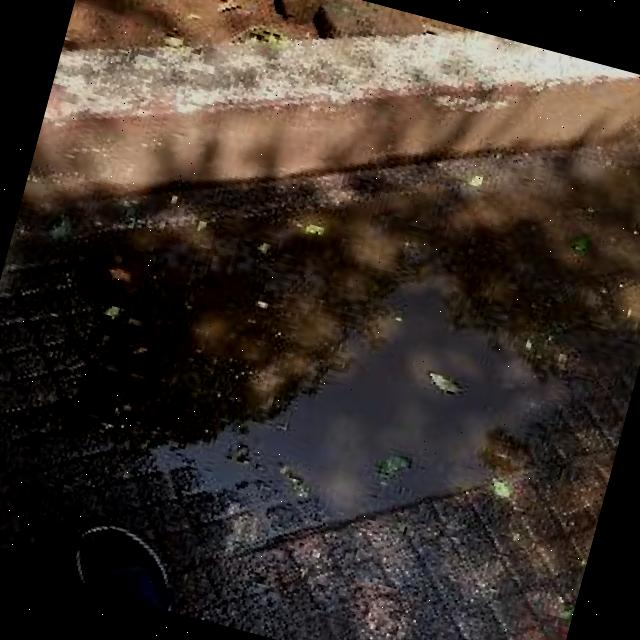stagnation: (110, 232, 594, 591)
